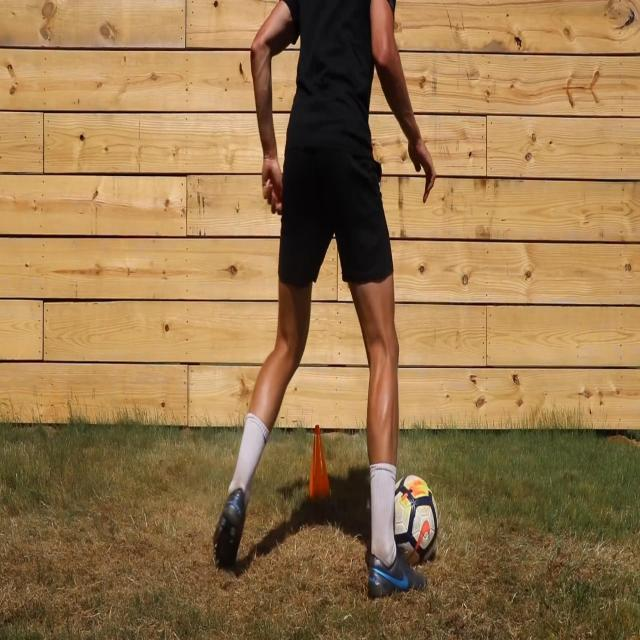Soccer Ball: (383, 475, 439, 568)
